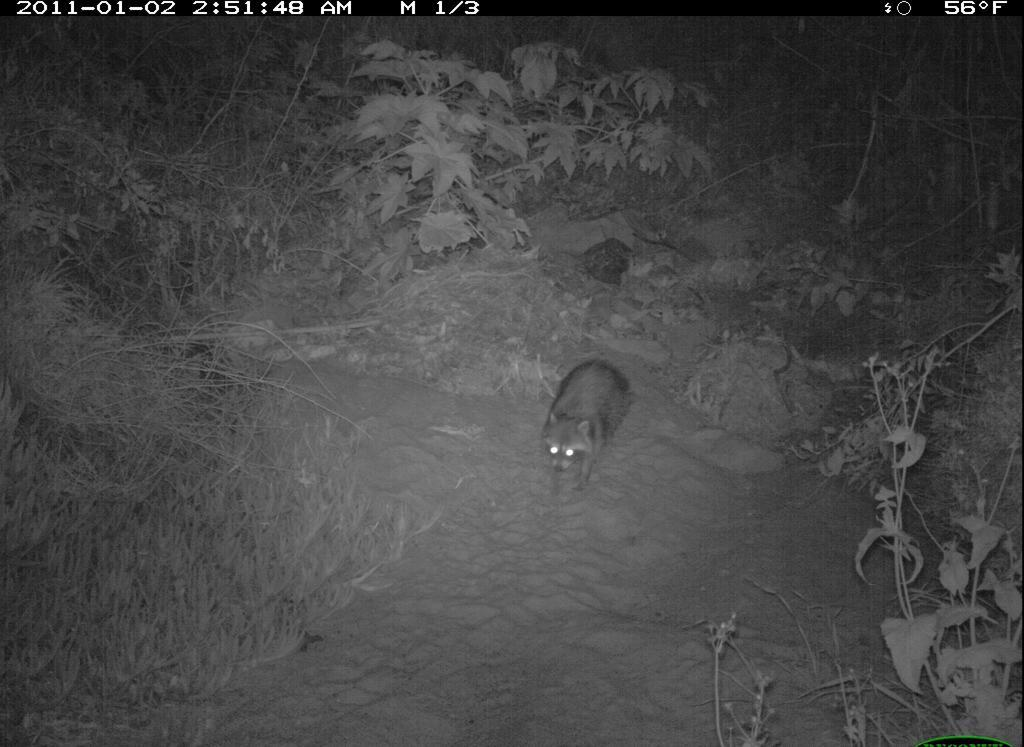raccoon: (536, 353, 639, 501)
